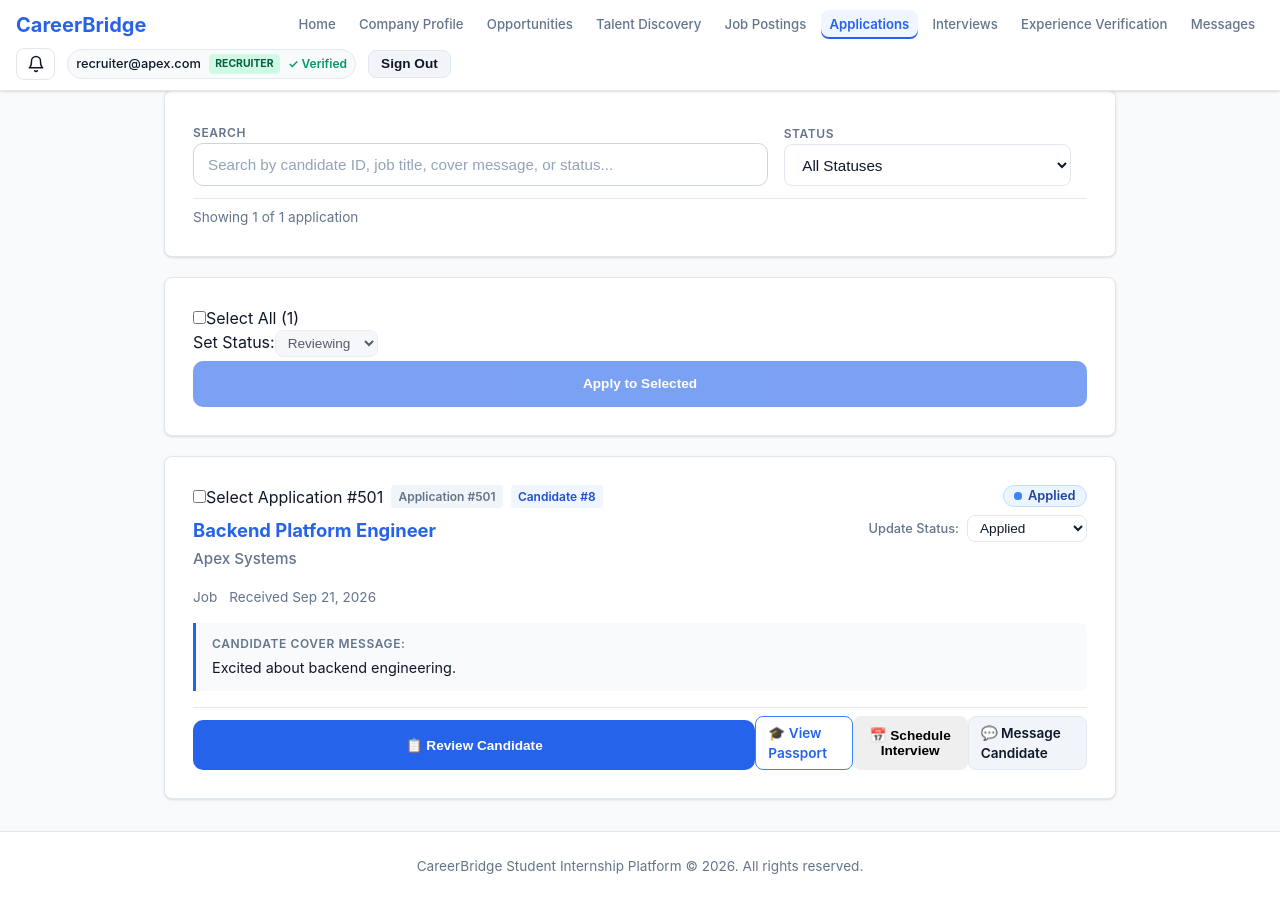
Test: CareerBridge 2.0-E — Experience Passport Integration Flow › Recruiter candidate review evaluates projects: displays submitted evaluation scores, recommendations, and dimensions in candidate passport
(page scrolled)
Click the link with test id "view-passport-btn-501".
click(804, 743)  # box [755,716,853,770]
(page scrolled)
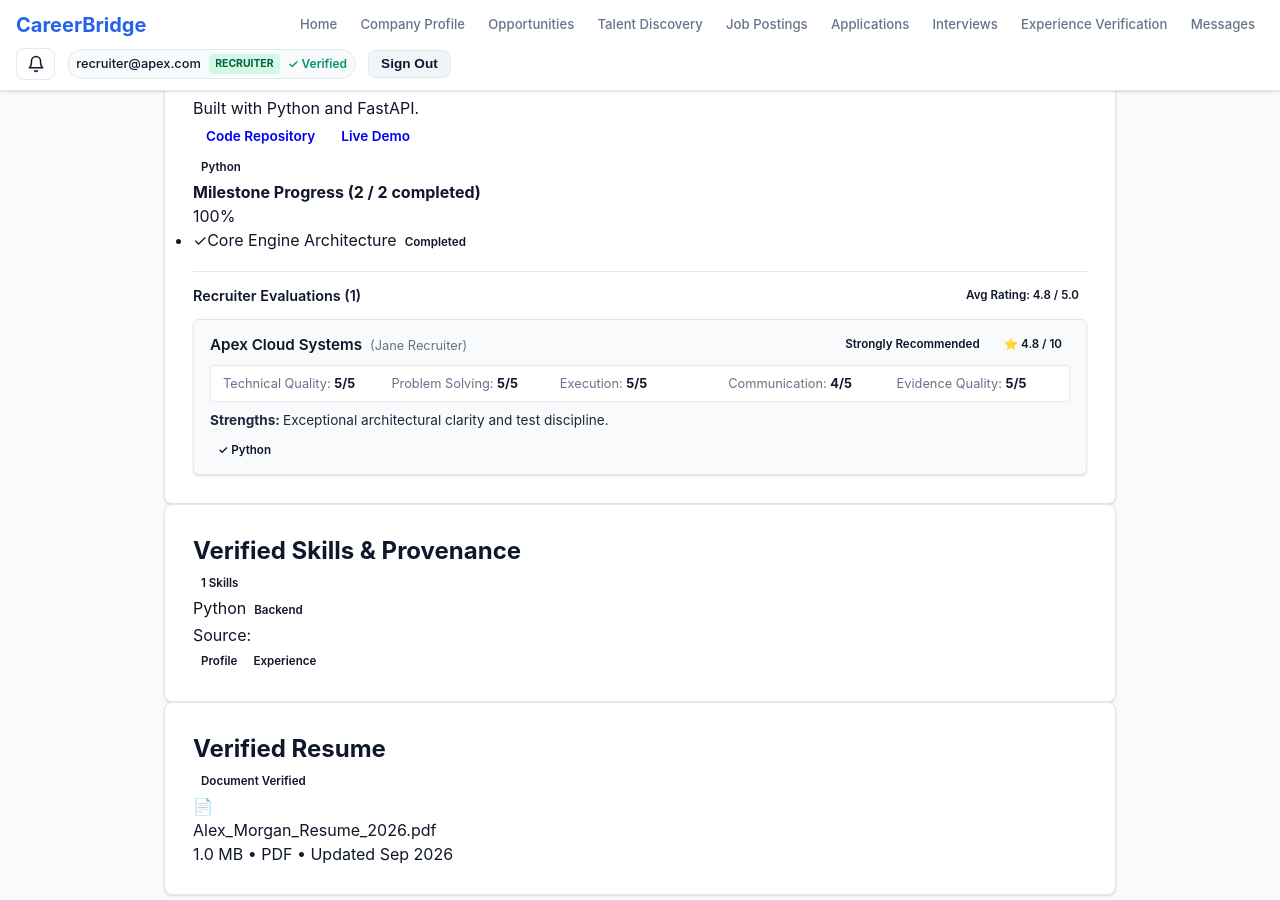
Expected: the text with test id "proj-avg-eval-201" reads "Avg Rating: 4.8 / 5.0", [966,288,1079,302]
Expected: the element with test id "passport-eval-card-99" is shown, [193,319,1087,475]
Expected: the text with test id "eval-company-99" reads "Apex Cloud Systems", [210,335,362,354]
